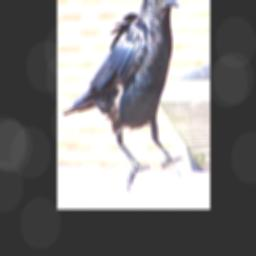Crow: (63, 0, 182, 193)
